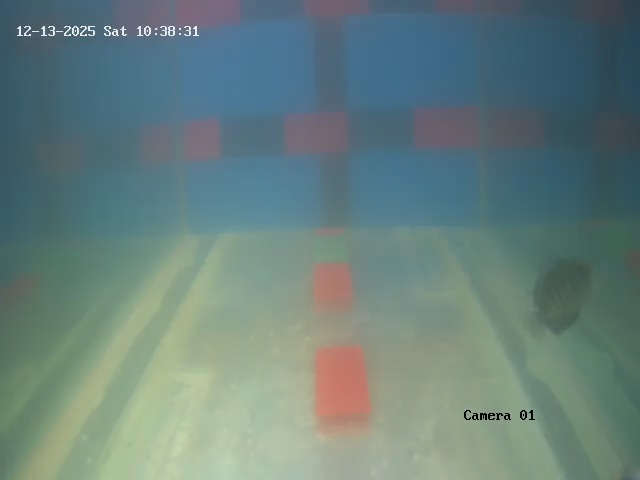fish: (532, 253, 594, 336)
